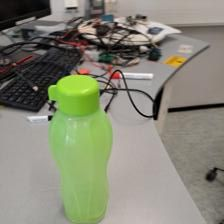bottle: (43, 72, 115, 224)
